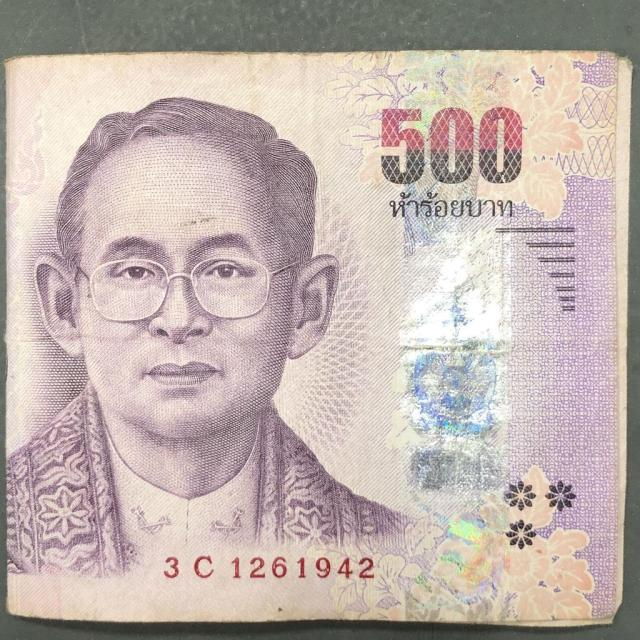THAI500: (6, 51, 632, 626)
